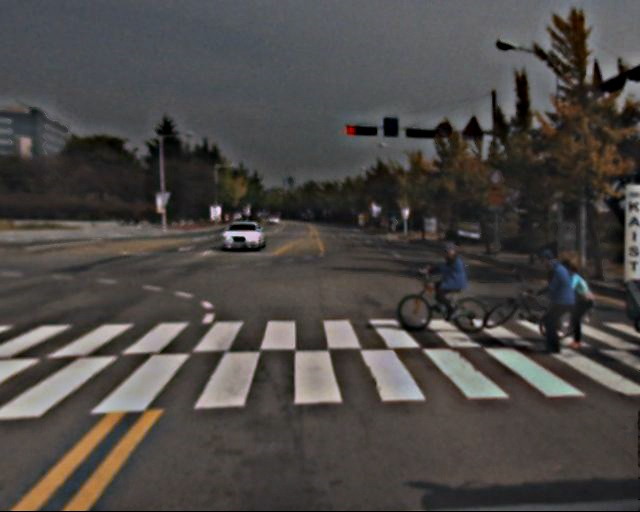person: (528, 247, 572, 355), (557, 259, 596, 353), (433, 239, 466, 319)
